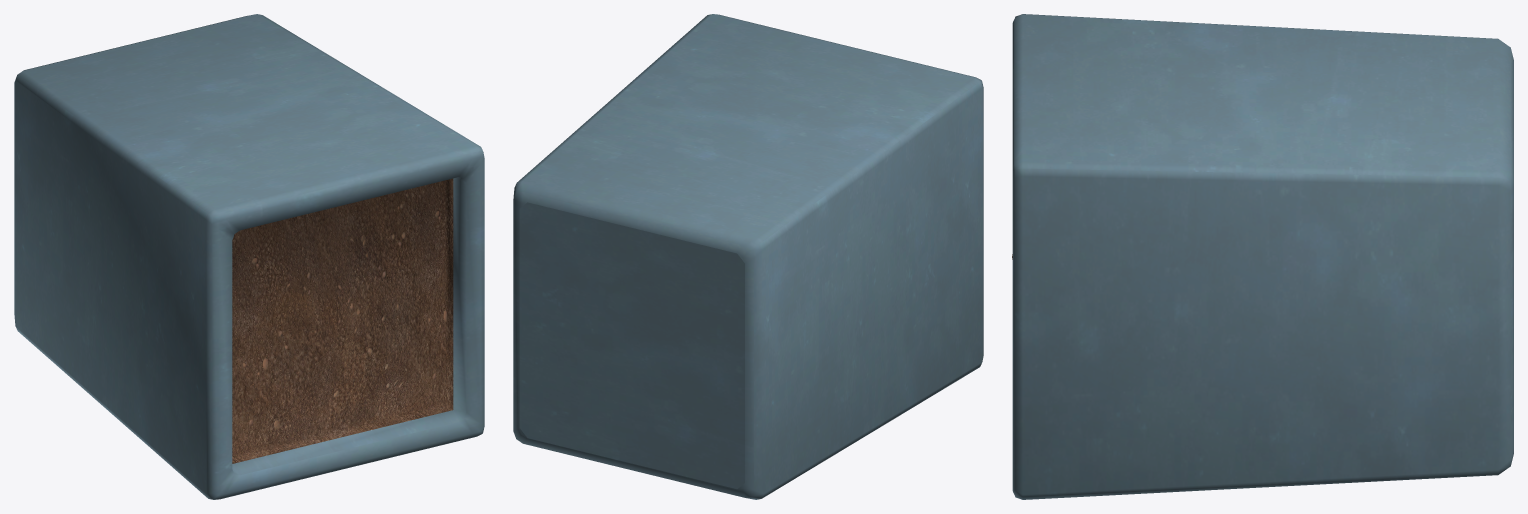
File: p6_karma_pot_med_LOD0.obj
3 views of the same model, side by side, from view 1: azimuth 30°, elevation 25°; view 2: azimuth 150°, elevation 25°; view 3: azimuth 270°, elevation 25° (orthographic). The views are drawn at different scales.
Visible parts, largest first — view 1: glass_clear, core_dirt_dark; view 2: glass_clear; view 3: glass_clear.
Boxes of the visible parts, x1=… form: glass_clear: x1=14, y1=14, x2=484, y2=499; core_dirt_dark: x1=232, y1=178, x2=453, y2=463; glass_clear: x1=513, y1=14, x2=983, y2=499; glass_clear: x1=1012, y1=14, x2=1513, y2=499.
Bounding box in the file's own units: 45.27 × 45.27 × 61.12.
